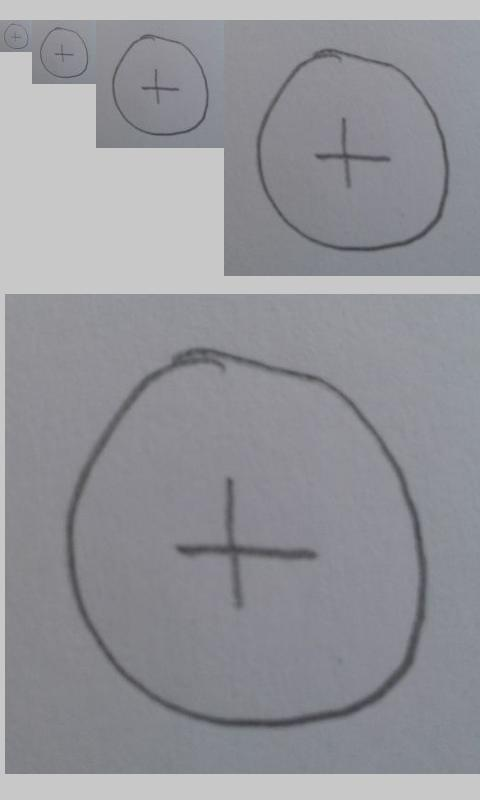button: (62, 347, 429, 728), (256, 47, 450, 253), (111, 34, 209, 136), (39, 27, 90, 79), (3, 23, 29, 50)
